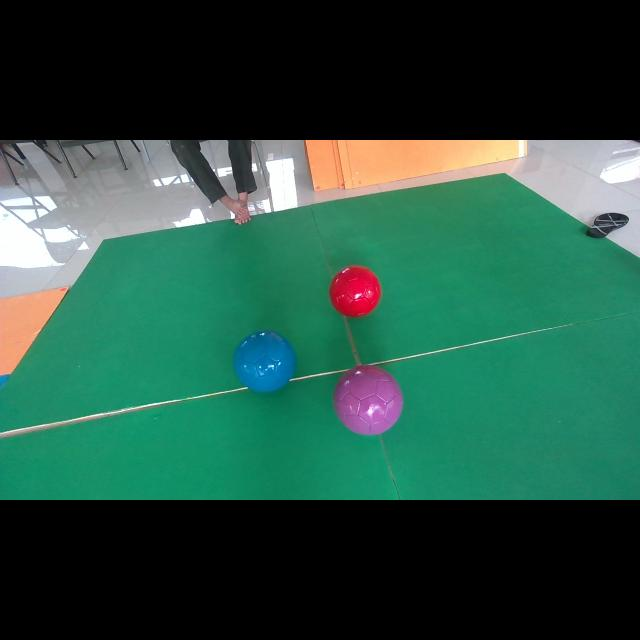B: (232, 330, 296, 392)
P: (334, 365, 402, 435)
R: (329, 265, 381, 318)
